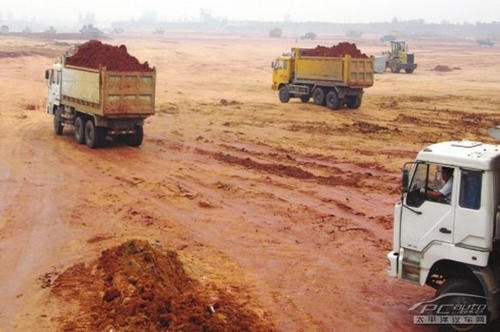chaozhai: (42, 37, 154, 151), (267, 40, 377, 111)
